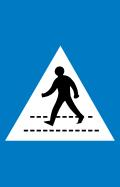Pedestrian Crossing: (5, 33, 119, 150)
